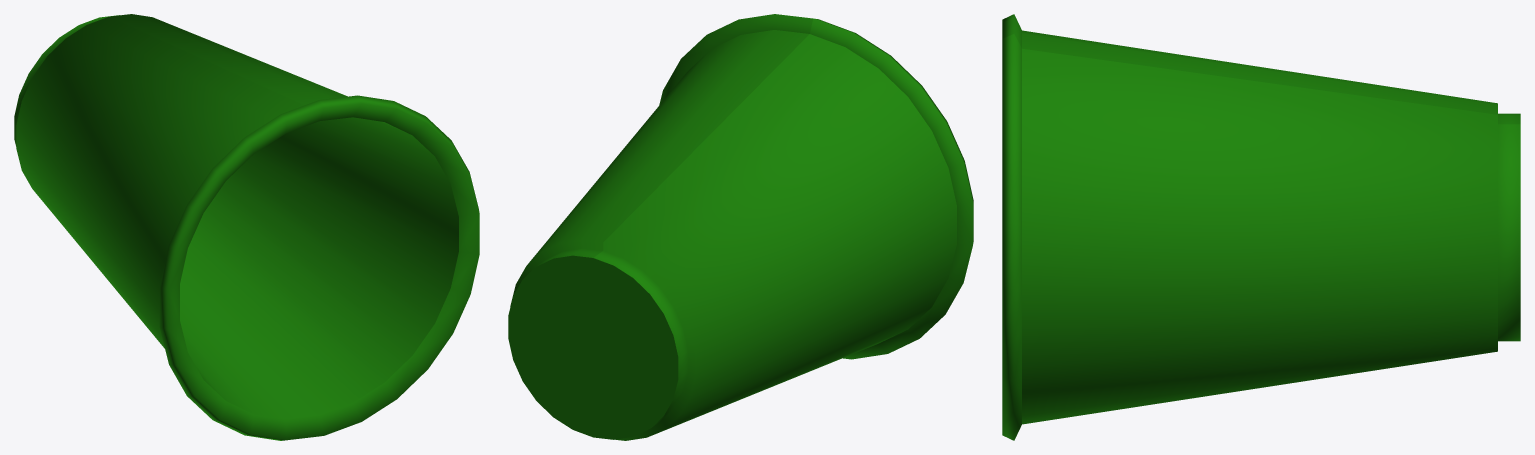
The picture shows the model from 3 angles, left to right: view 1: azimuth 30°, elevation 25°; view 2: azimuth 150°, elevation 25°; view 3: azimuth 270°, elevation 25°; orthographic projection. The views are drawn at different scales.
Bounding box in the file's own units: 0.8187 × 0.8247 × 1.
